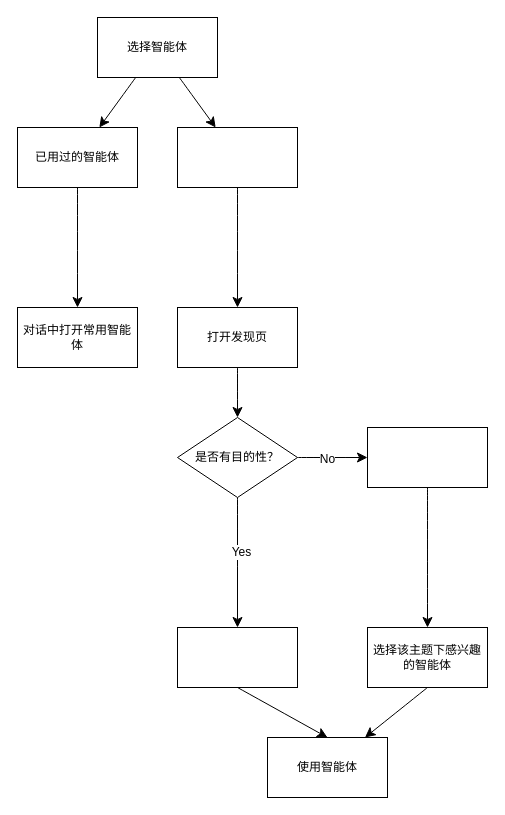
This 505x815 diagram has some shape labels left out. The centre of each missing label's shape, as x and y in pixels:
"导航栏选择感兴趣的主题" belongs at point 427,457.
"搜索栏搜索关键词选择智能体" belongs at point 237,657.
"未用过的智能体" belongs at point 237,157.
